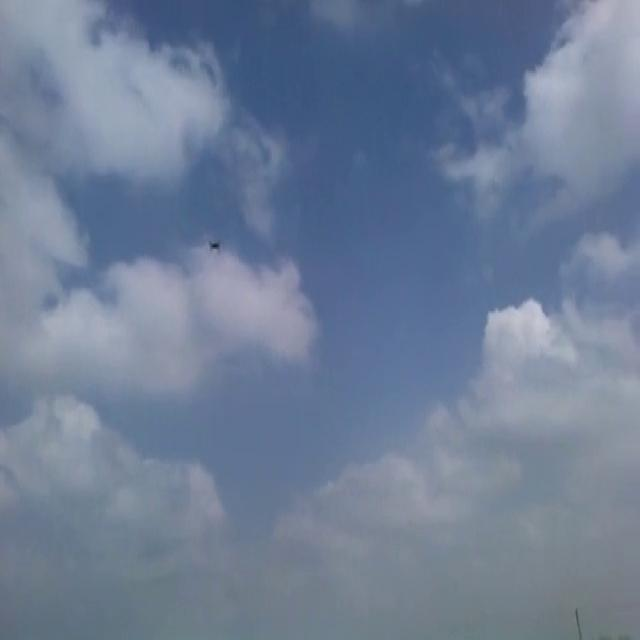drone: (205, 235, 224, 256)
